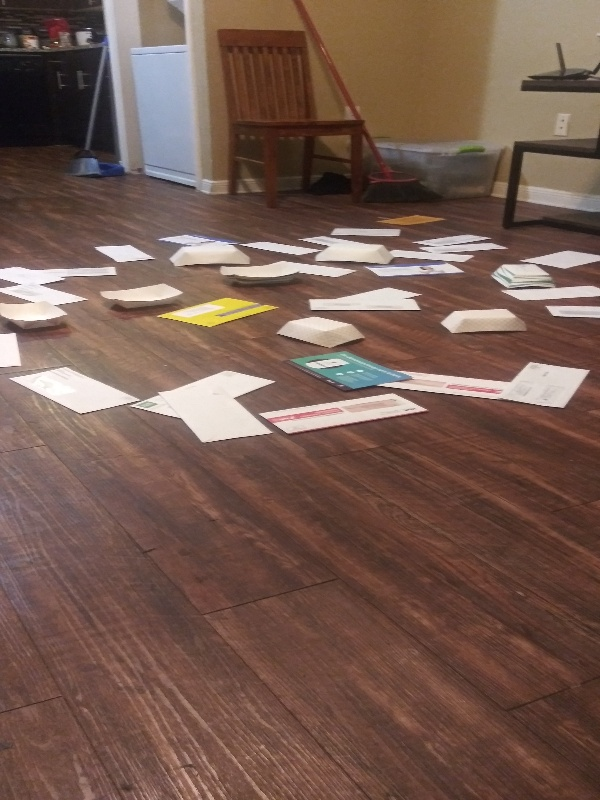plate: (274, 316, 374, 352), (94, 280, 190, 316), (435, 306, 531, 338), (1, 297, 69, 336), (165, 244, 257, 271), (487, 260, 564, 291), (218, 261, 300, 288), (310, 241, 398, 264)
